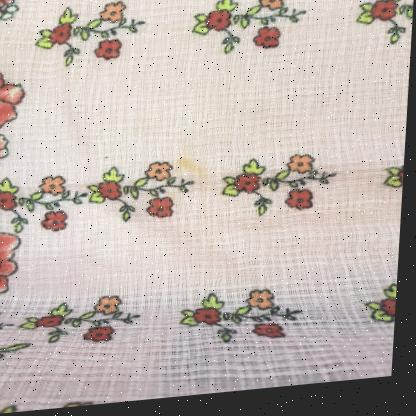spot: (177, 157, 211, 190), (171, 196, 181, 205)
